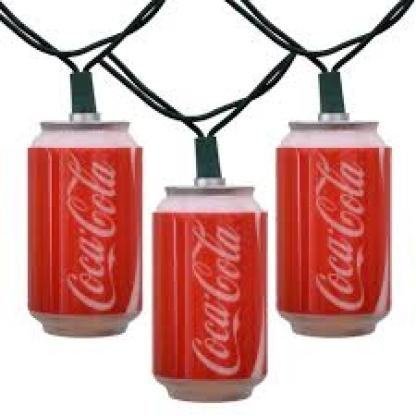trash: (277, 72, 390, 335), (28, 72, 141, 335), (153, 137, 266, 400)
